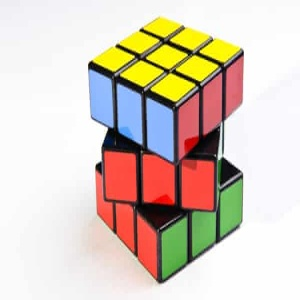cube: (88, 15, 244, 285)
